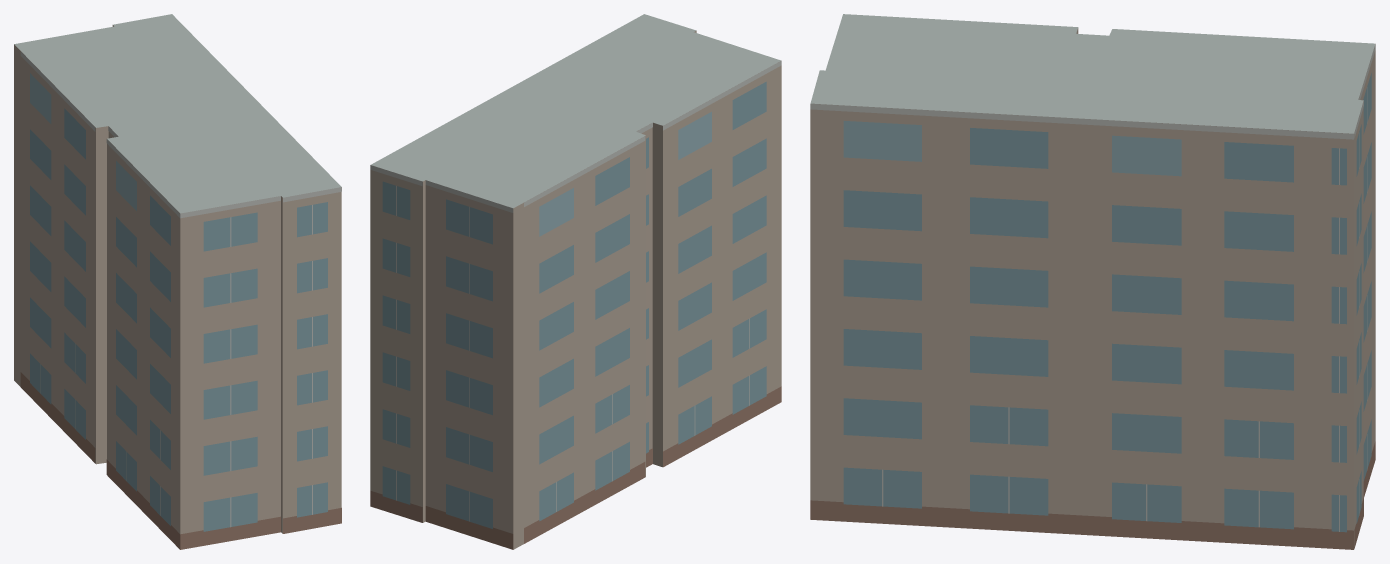
File: survey-upis-32522975.glb
3 renders of one model, left to right at view 1: azimuth 30°, elevation 25°; view 2: azimuth 150°, elevation 25°; view 3: azimuth 270°, elevation 25°, orthographic. The views are drawn at different scales.
Visible parts, largest first — view 1: survey-upis-32522975.tmp; view 2: survey-upis-32522975.tmp; view 3: survey-upis-32522975.tmp.
Boxes of the visible parts, box(x1,y1,x2,y2) form: survey-upis-32522975.tmp: box(14, 14, 341, 549); survey-upis-32522975.tmp: box(370, 14, 781, 549); survey-upis-32522975.tmp: box(810, 14, 1375, 549).
Size of the model in its own units: 10.68 by 17.3 by 21.3.
